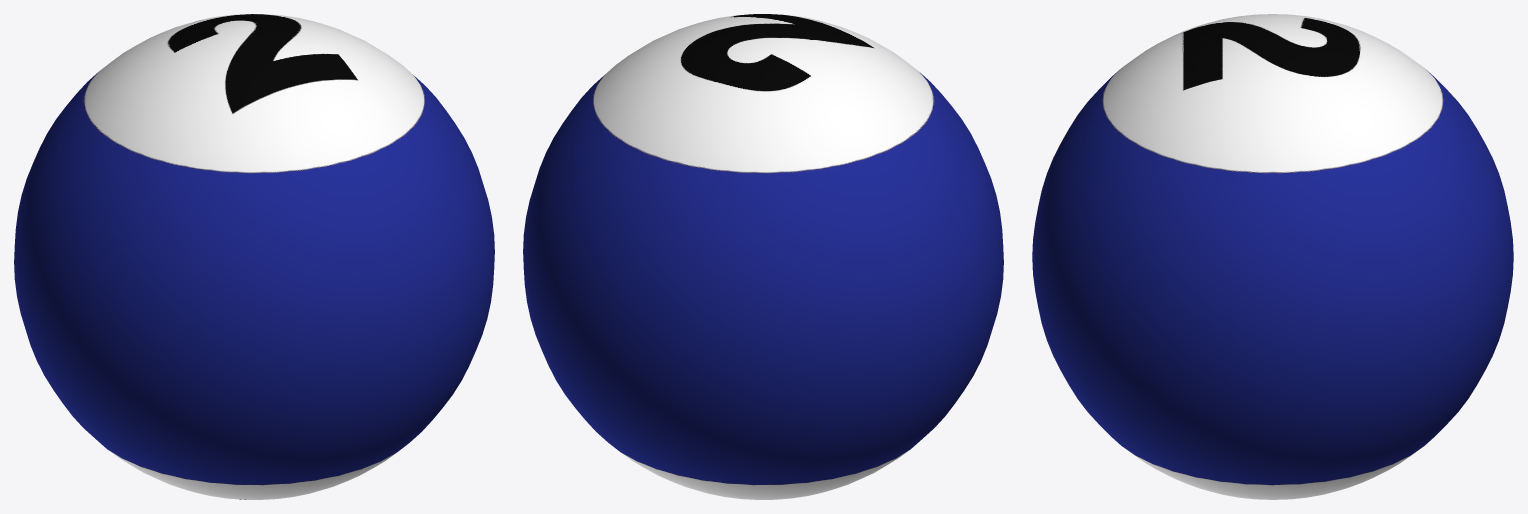
The picture shows the model from 3 angles, left to right: view 1: azimuth 30°, elevation 25°; view 2: azimuth 150°, elevation 25°; view 3: azimuth 270°, elevation 25°; orthographic projection.
Parts seen in each view (by area): view 1: 2-two; view 2: 2-two; view 3: 2-two.
Part boxes in pixels (x1=…): 2-two: x1=14, y1=14, x2=494, y2=499; 2-two: x1=523, y1=14, x2=1003, y2=499; 2-two: x1=1032, y1=14, x2=1513, y2=499.
Bounding box in the file's own units: 0.5015 × 0.5088 × 0.5015.
1 material, 1 textured.
